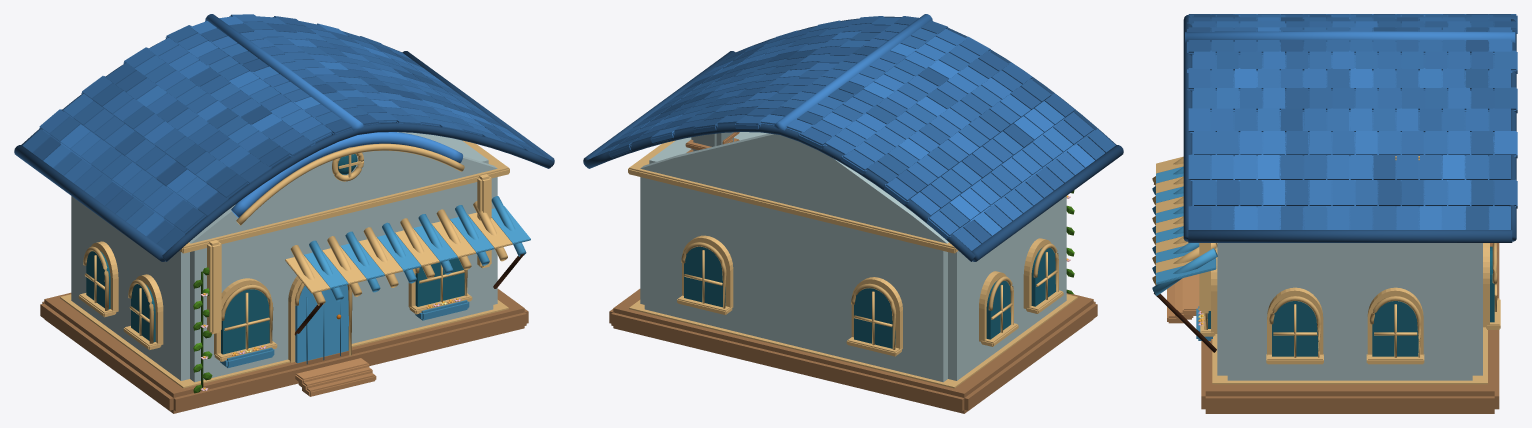
Rendered from boathouse-F_SPbZFj.glb.
3 renders of one model, left to right at view 1: azimuth 30°, elevation 25°; view 2: azimuth 150°, elevation 25°; view 3: azimuth 270°, elevation 25°, orthographic. The views are drawn at different scales.
Visible parts, largest first — view 1: boathouse; view 2: boathouse; view 3: boathouse.
Boxes of the visible parts, x1,y1,x2,y2 form: boathouse: (14, 14, 554, 413); boathouse: (583, 14, 1123, 413); boathouse: (1152, 14, 1517, 413).
Bounding box in the file's own units: 8.8 × 5.45 × 6.3.
